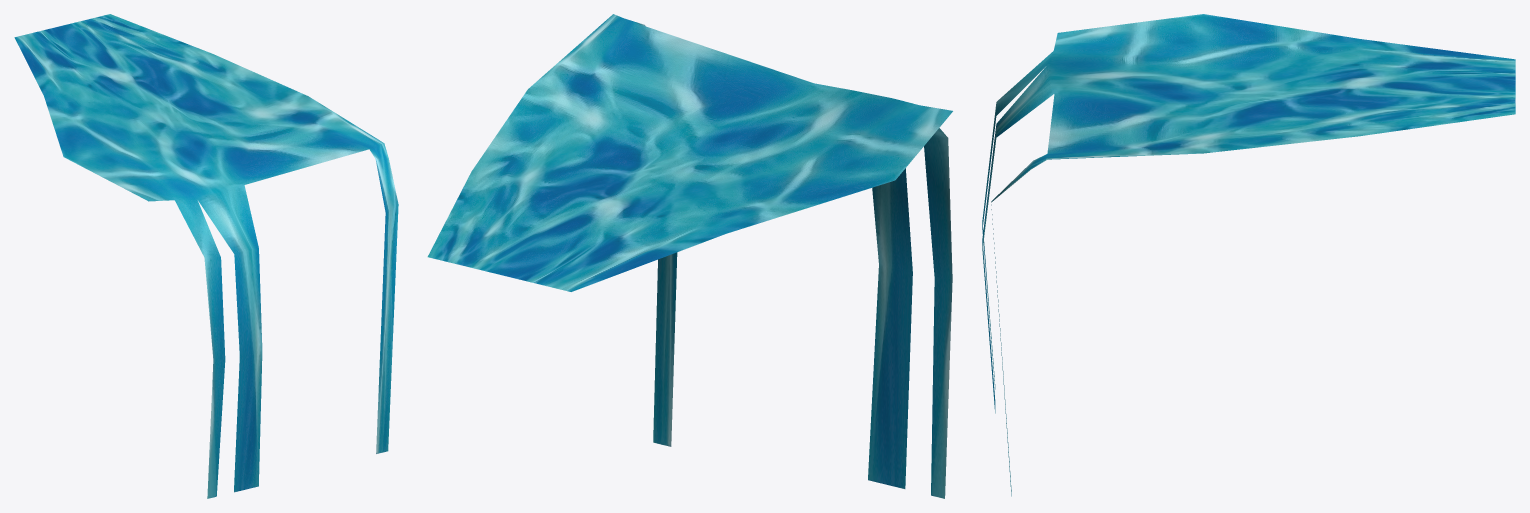
Rendered from Swamp_dizuo03_water.FBX.
3 views of the same model, side by side, from view 1: azimuth 30°, elevation 25°; view 2: azimuth 150°, elevation 25°; view 3: azimuth 270°, elevation 25° (orthographic). The views are drawn at different scales.
Visible parts, largest first — view 1: Plane001; view 2: Plane001; view 3: Plane001.
Part boxes in pixels (x1,y1,x2,y2): Plane001: (14, 14, 398, 498); Plane001: (427, 14, 952, 498); Plane001: (982, 14, 1515, 496).
Size of the model in its own units: 5.1 by 5.67 by 7.86.
